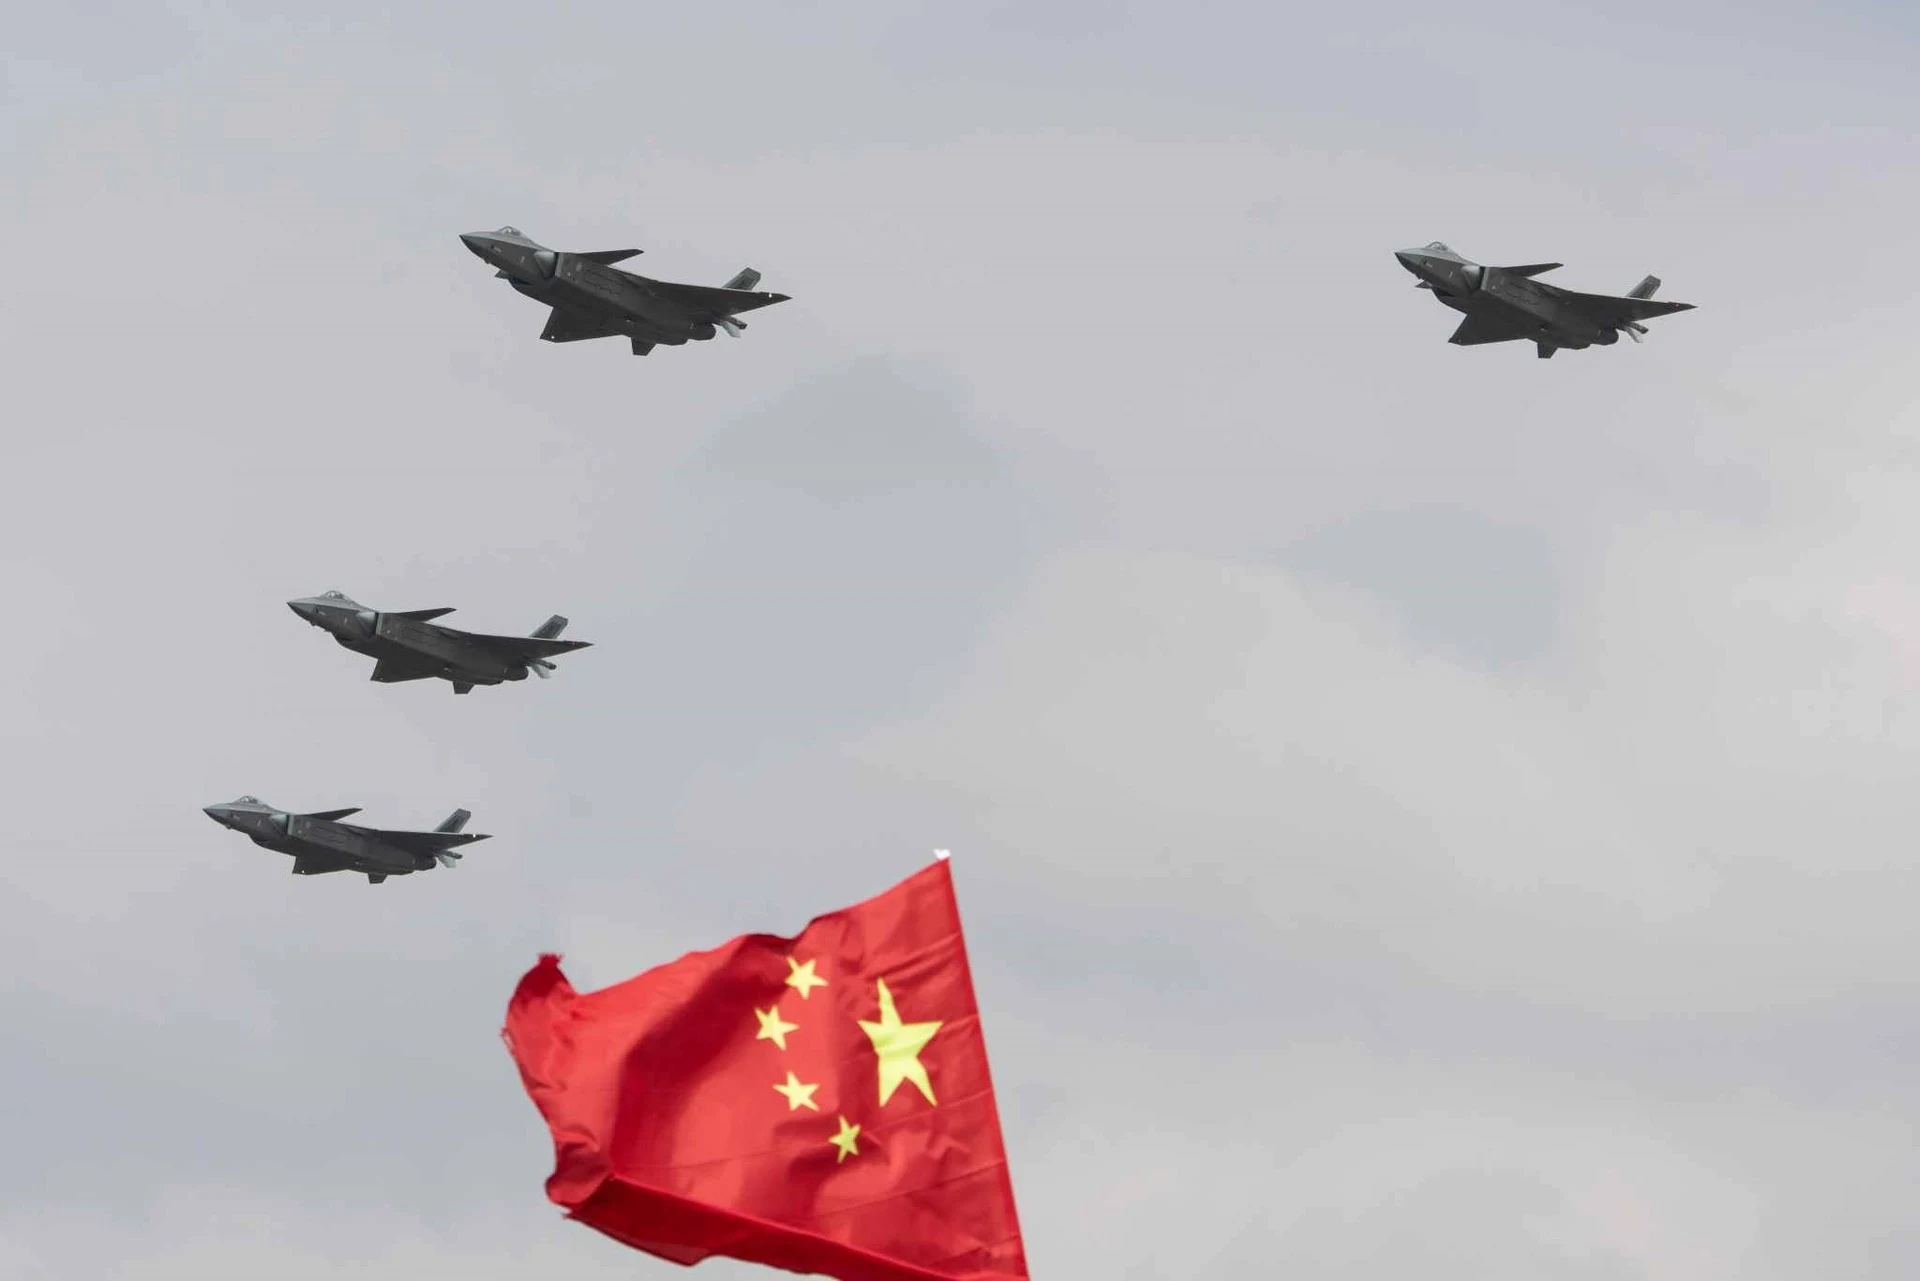J20: (457, 224, 793, 357), (1392, 240, 1701, 359), (284, 589, 596, 695), (202, 795, 495, 885)
